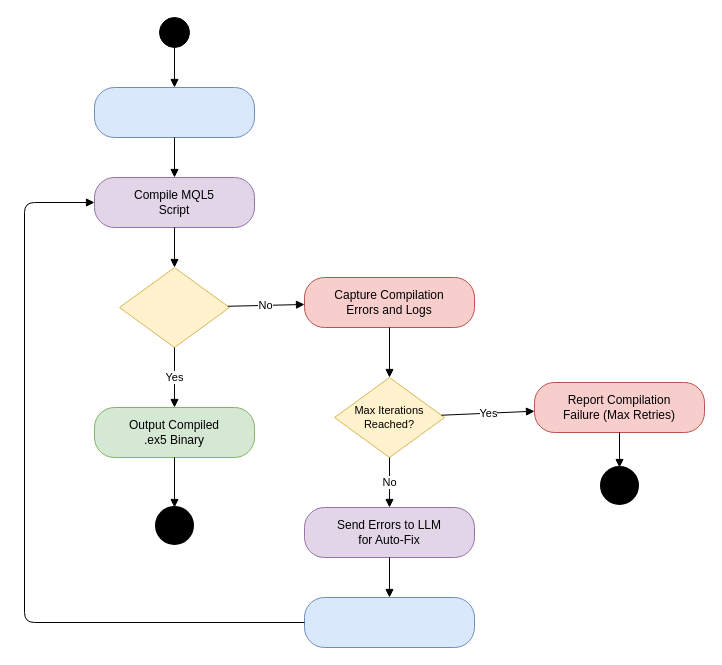
This 722x665 diagram has some shape labels left out. Each missing label, with the centre of its shape:
Apply LLM Fix to Code: the point at 389,622
Compilation Success?: the point at 174,307
Receive Generated MQL5 Script: the point at 174,112
